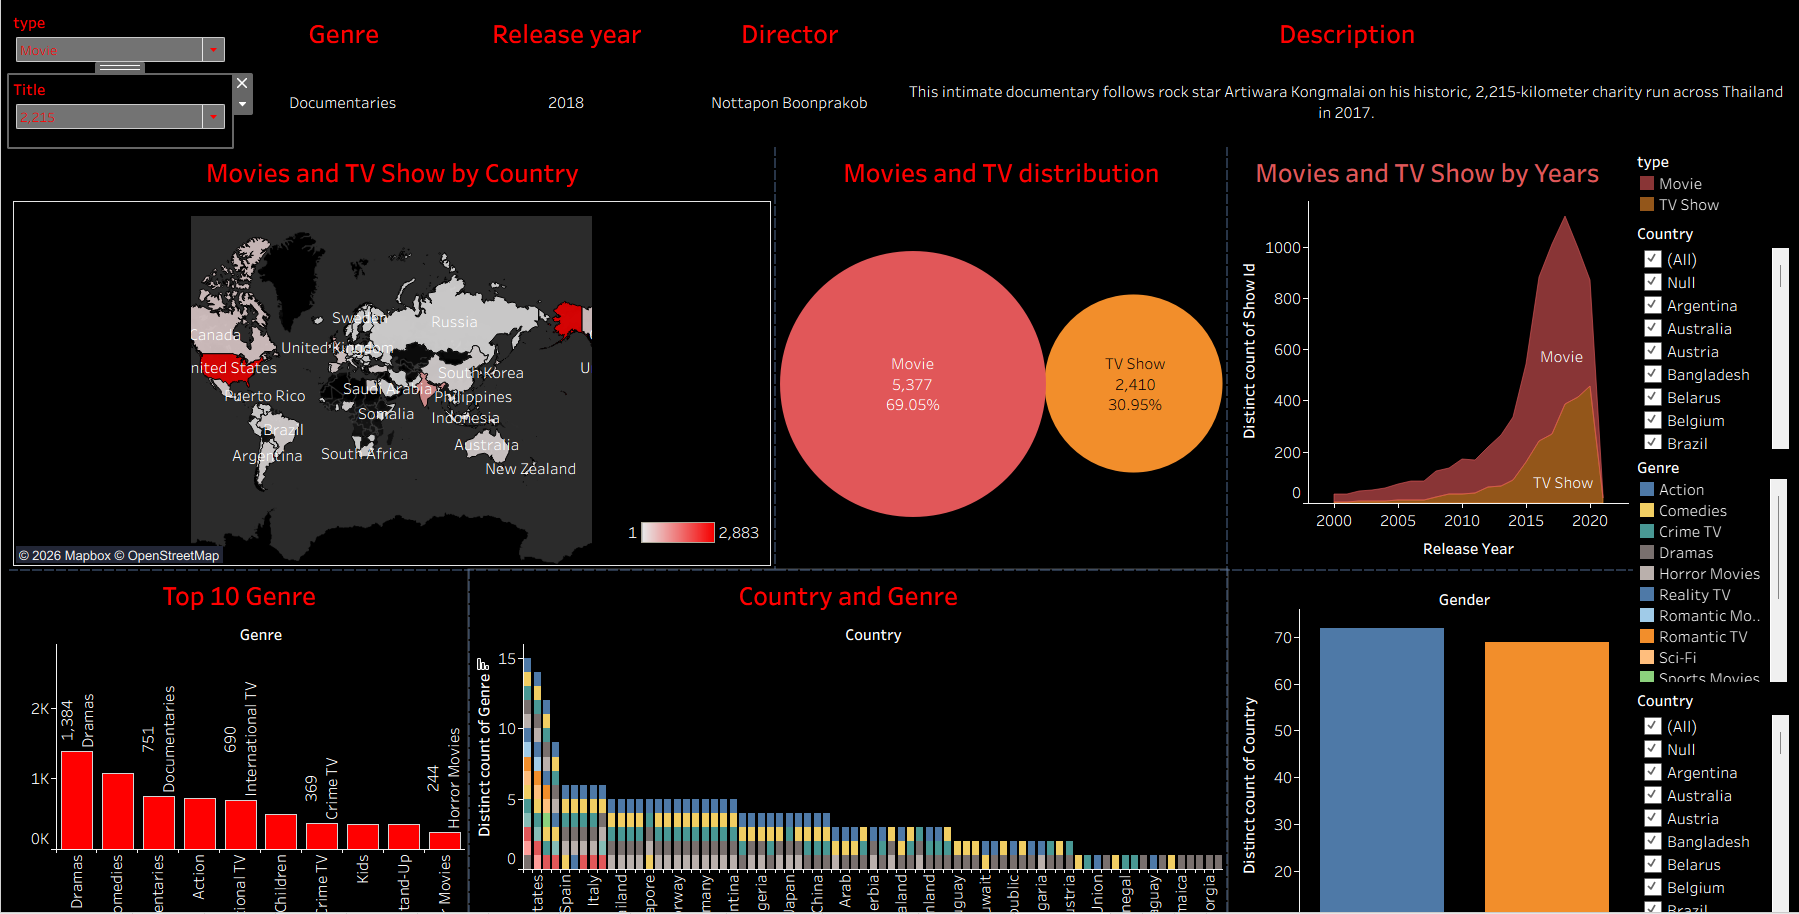

Layout of this report page (visuals, bound fields, positions):
{"tool":"tableau","page":{"name":"NETFLIX","canvas":[1800,1000],"ordinal":0},"visuals":[{"type":"filter","title":"Sheet 7","param":"[federated.0r563cs092zfw11937dw51fghhwi].[none:type:nk]","box":[8,8,223,67]},{"type":"worksheet","title":"Sheet 7 (5)","mark":"Automatic","box":[231,8,223,139]},{"type":"worksheet","title":"Sheet 7 (4)","mark":"Automatic","box":[454,8,223,139]},{"type":"worksheet","title":"Sheet 7 (3)","mark":"Automatic","box":[677,8,223,139]},{"type":"worksheet","title":"Sheet 7","mark":"Automatic","box":[900,8,892,139]},{"type":"filter","title":"Sheet 7","param":"[federated.0r563cs092zfw11937dw51fghhwi].[none:title:nk]","box":[8,75,223,72]},{"type":"worksheet","title":"Sheet 2","mark":"Multipolygon","box":[8,147,766,422.5]},{"type":"worksheet","title":"Sheet 6","mark":"Circle","box":[774,147,452,422.5]},{"type":"worksheet","title":"Sheet 1","mark":"Area","rows":["show_id"],"cols":["release_year"],"box":[1226,147,406,422.5]},{"type":"legend","title":"Sheet 1","param":"[federated.0r563cs092zfw11937dw51fghhwi].[none:type:nk]","box":[1632,147,160,72]},{"type":"filter","title":"Sheet 3","param":"[federated.0r563cs092zfw11937dw51fghhwi].[none:country:nk]","box":[1632,219,160,233.7]},{"type":"legend","title":"Sheet 3","param":"[federated.0r563cs092zfw11937dw51fghhwi].[none:genre:nk]","box":[1632,452.7,160,233.7]},{"type":"legend","title":"Sheet 2","param":"[federated.0r563cs092zfw11937dw51fghhwi].[ctd:show_id:qk]","box":[623,518,140,43]},{"type":"worksheet","title":"Sheet 5","mark":"Automatic","rows":["show_id"],"cols":["genre"],"box":[8,569.5,460,422.5]},{"type":"worksheet","title":"Sheet 3","mark":"Automatic","rows":["genre"],"cols":["country"],"box":[468,569.5,758,422.5]},{"type":"worksheet","title":"Sheet 4","mark":"Automatic","rows":["country"],"cols":["Gender"],"box":[1226,569.5,406,422.5]},{"type":"filter","title":"Sheet 4","param":"[federated.0r563cs092zfw11937dw51fghhwi].[none:country:nk]","box":[1632,686.3,160,233.7]},{"type":"legend","title":"Sheet 4","param":"[federated.0r563cs092zfw11937dw51fghhwi].[none:Gender:nk]","box":[1632,920,160,72]}]}

Visuals, with their boxes on the page's 1800x1000 design canvas (x1, y1, x2, y2). These are canvas units, not pixel positions in the 1799x914 screenshot, which may show the page scaled, cropped or inside an application window:
"Sheet 7" filter: [left=8, top=8, right=231, bottom=75]
"Sheet 7 (5)" worksheet: [left=231, top=8, right=454, bottom=147]
"Sheet 7 (4)" worksheet: [left=454, top=8, right=677, bottom=147]
"Sheet 7 (3)" worksheet: [left=677, top=8, right=900, bottom=147]
"Sheet 7" worksheet: [left=900, top=8, right=1792, bottom=147]
"Sheet 7" filter: [left=8, top=75, right=231, bottom=147]
"Sheet 2" worksheet (Multipolygon marks): [left=8, top=147, right=774, bottom=570]
"Sheet 6" worksheet (Circle marks): [left=774, top=147, right=1226, bottom=570]
"Sheet 1" worksheet (Area marks): [left=1226, top=147, right=1632, bottom=570]
"Sheet 1" legend: [left=1632, top=147, right=1792, bottom=219]
"Sheet 3" filter: [left=1632, top=219, right=1792, bottom=453]
"Sheet 3" legend: [left=1632, top=453, right=1792, bottom=686]
"Sheet 2" legend: [left=623, top=518, right=763, bottom=561]
"Sheet 5" worksheet: [left=8, top=570, right=468, bottom=992]
"Sheet 3" worksheet: [left=468, top=570, right=1226, bottom=992]
"Sheet 4" worksheet: [left=1226, top=570, right=1632, bottom=992]
"Sheet 4" filter: [left=1632, top=686, right=1792, bottom=920]
"Sheet 4" legend: [left=1632, top=920, right=1792, bottom=992]
